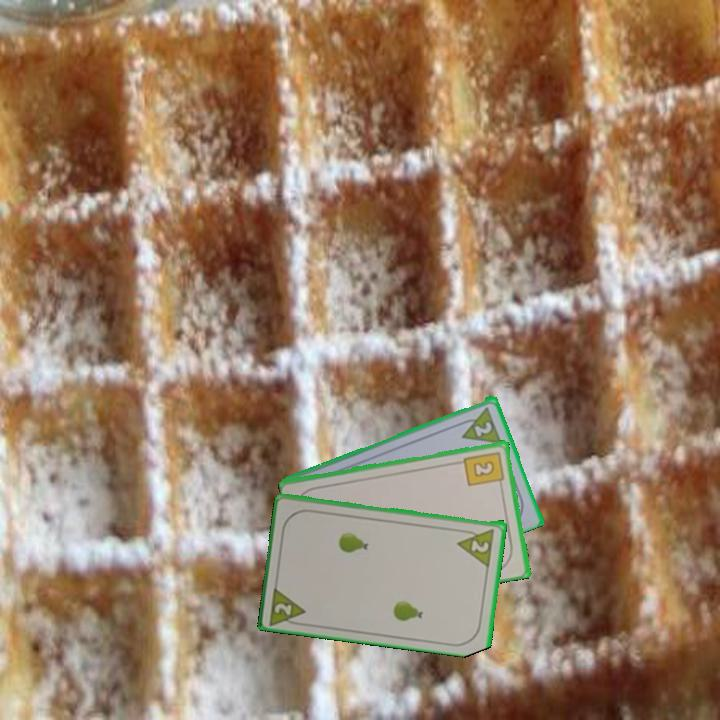2b: (461, 448, 507, 489)
2p: (266, 581, 309, 628), (454, 525, 497, 568), (471, 417, 495, 439)
